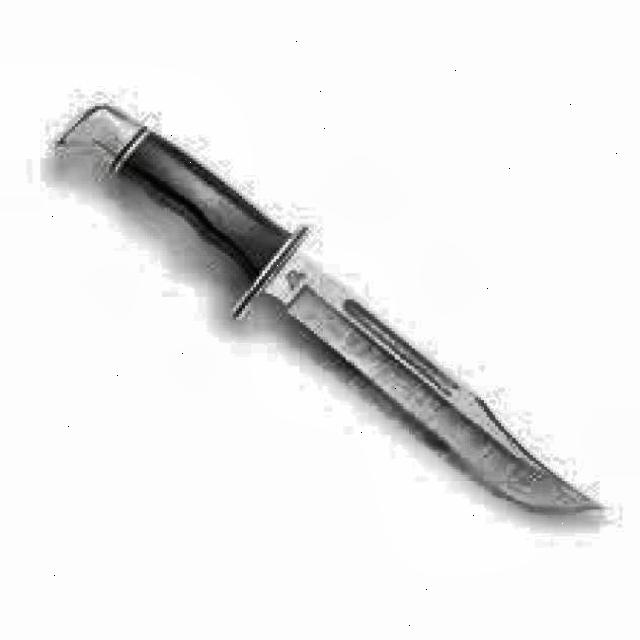knife: (50, 96, 608, 528)
